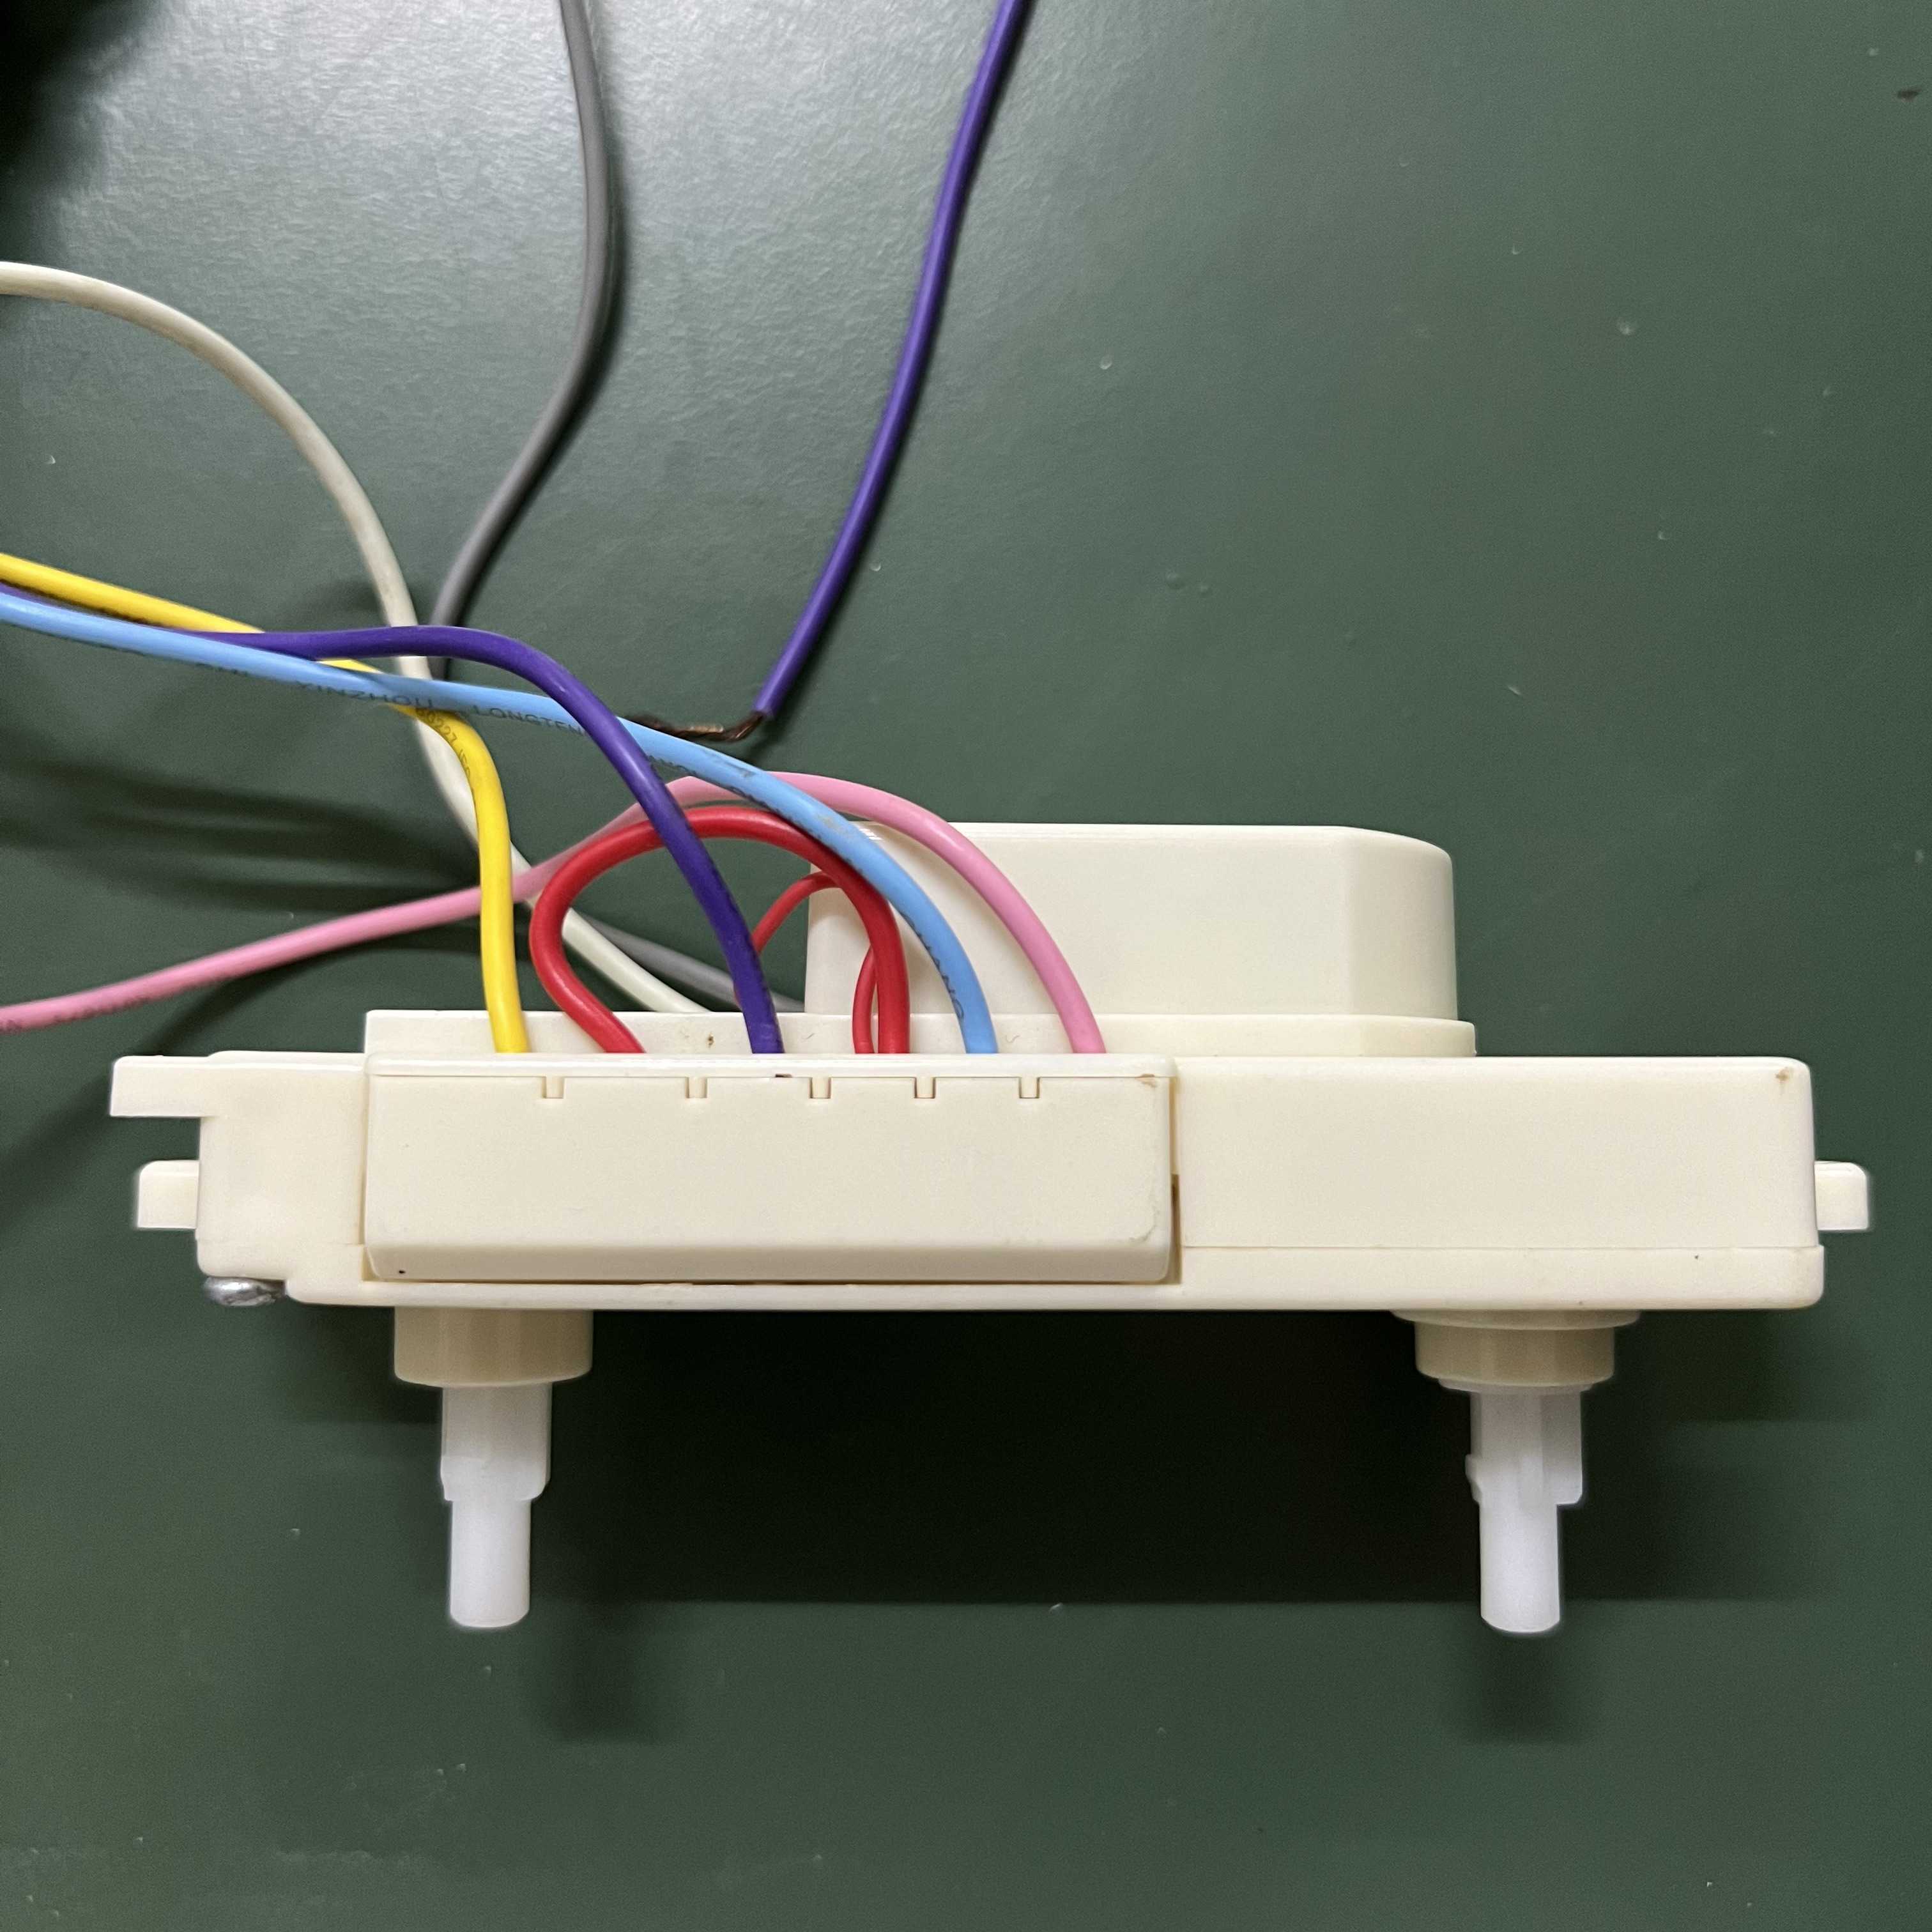rectangle_timer: (104, 786, 1884, 1665)
